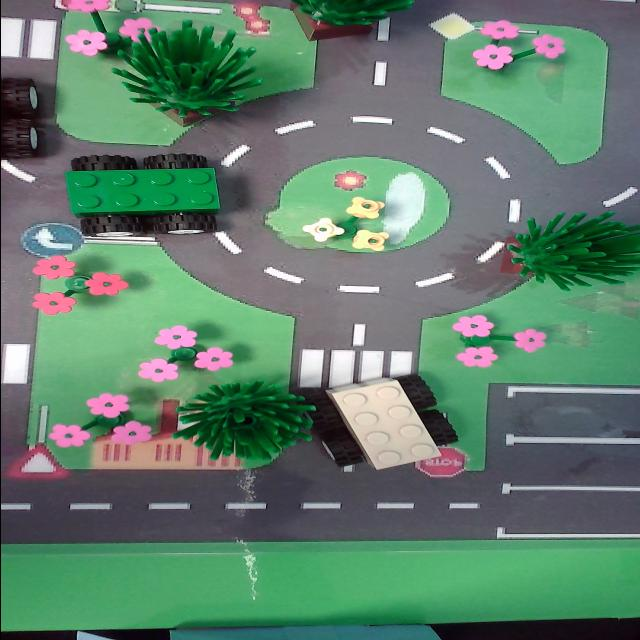Car: (65, 146, 233, 246), (306, 372, 464, 476)
Flower: (459, 13, 571, 80), (46, 389, 159, 454), (132, 322, 238, 388), (55, 0, 161, 63), (27, 256, 131, 320), (448, 308, 550, 372), (300, 194, 400, 258)
Tree: (103, 24, 270, 132), (480, 208, 640, 294), (173, 380, 320, 467), (269, 0, 412, 50)
